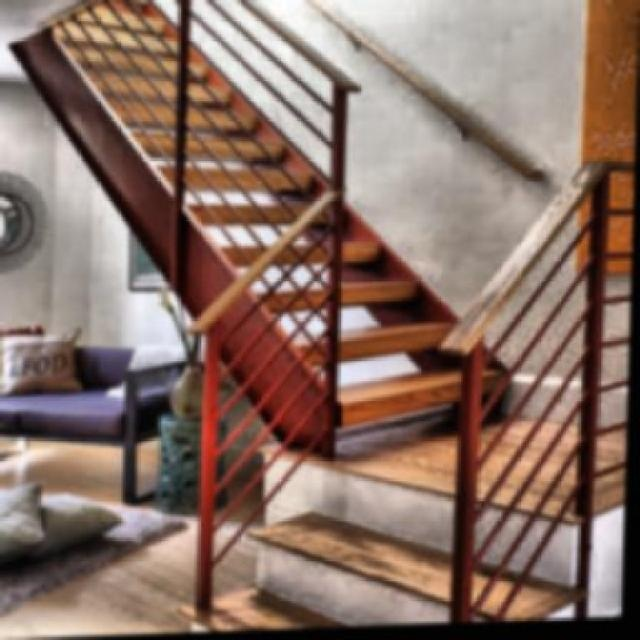stair: (151, 0, 551, 425), (168, 440, 591, 634)
